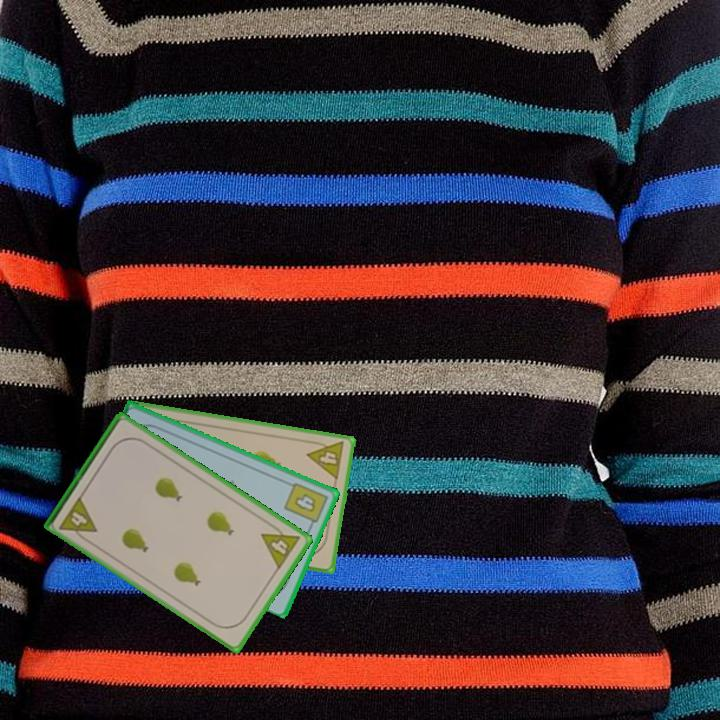4b: (280, 479, 331, 531)
4p: (257, 519, 303, 572), (56, 492, 100, 545), (304, 436, 347, 483)
